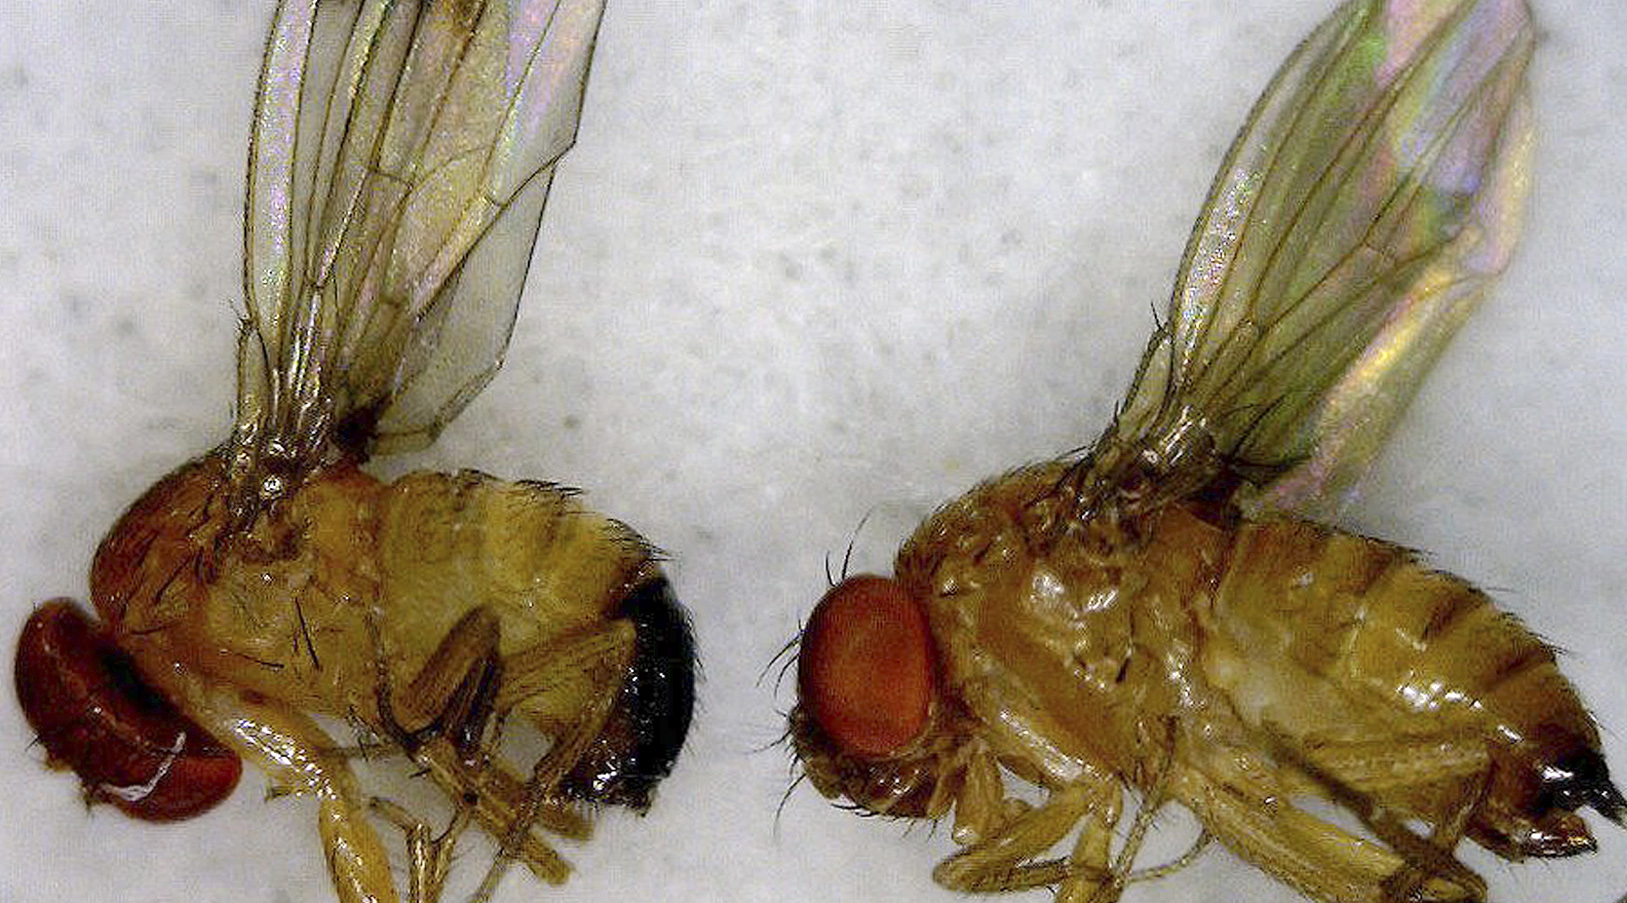Fruit fly: (790, 67, 1601, 903), (33, 187, 732, 903)
